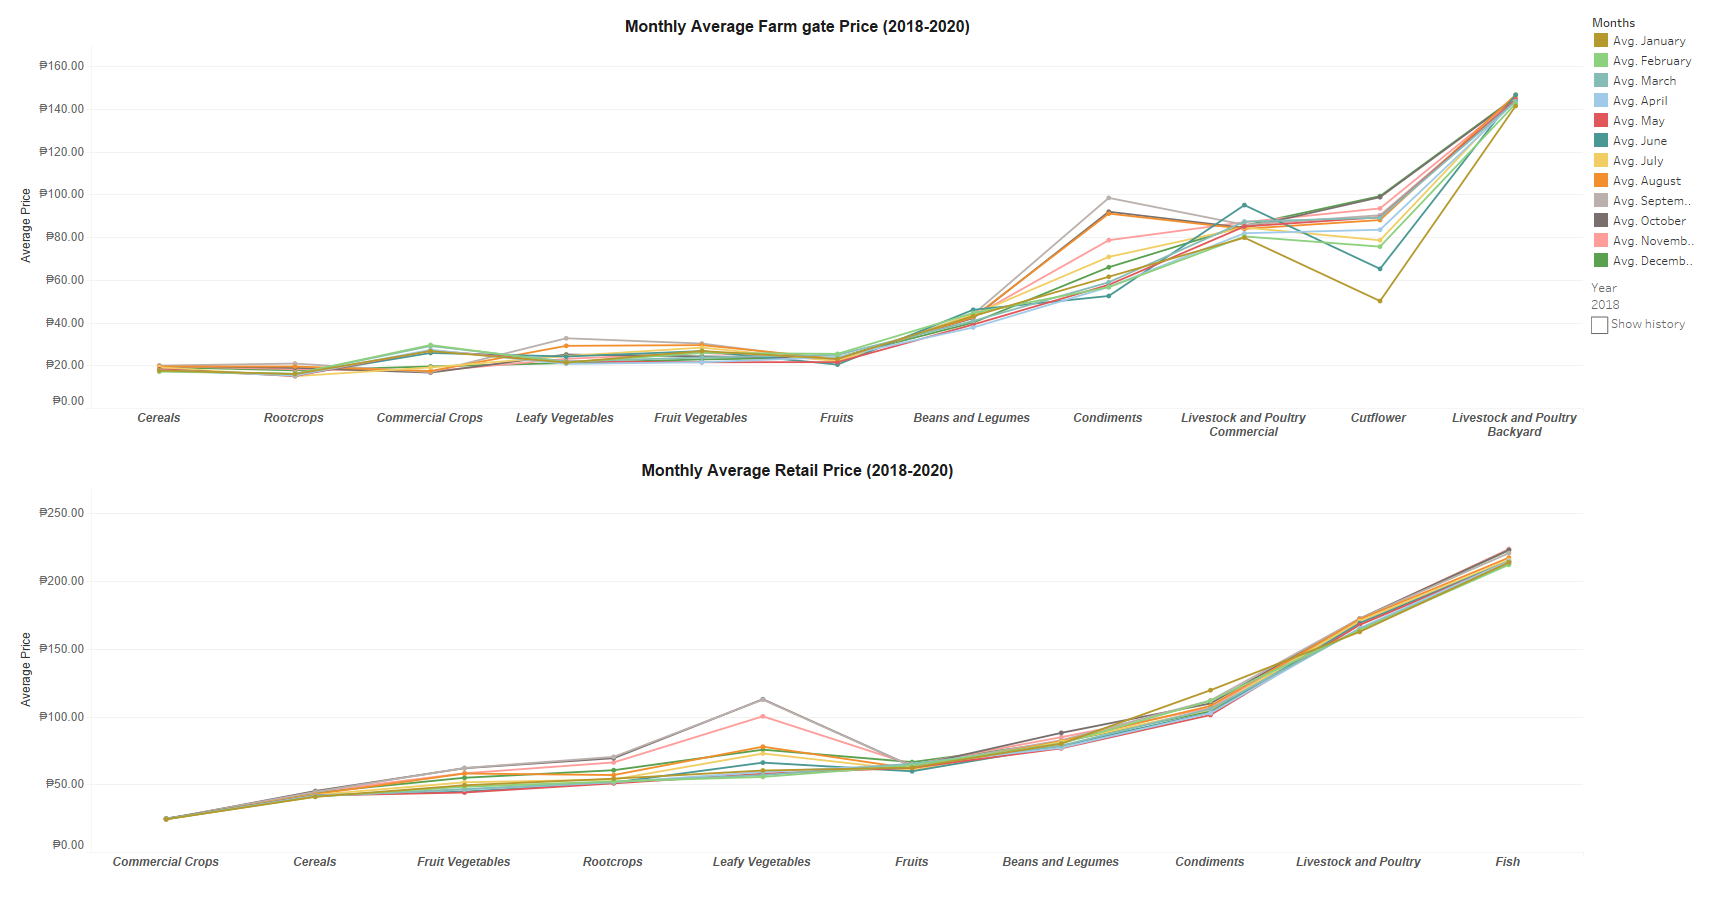

The dashboard page shown, as its layout file describes it:
{"tool":"tableau","page":{"name":"Objective 2","canvas":[1000,1000],"units":"permille","ordinal":2},"visuals":[{"type":"worksheet","title":"Farmgate Price per Month in the past 3 years","mark":"Line","cols":["Type of Commodity"],"box":[4.7,8.8,923.9,491.2]},{"type":"legend","title":"Retail Price per Month in the past 3 years","param":"[federated.11yr58t03ajr2j1fum0s00oflgma].[:Measure Names]","box":[928.6,8.8,66.7,294.2]},{"type":"currpage","title":"Retail Price per Month in the past 3 years","box":[928.6,303.1,66.7,77.4]},{"type":"worksheet","title":"Retail Price per Month in the past 3 years","mark":"Line","cols":["Type of Commodity"],"box":[4.7,500,923.9,491.2]}]}

Visuals, with their boxes on the dashboard's canvas, which has no fixed pixel size, in thousandths of its width and height (x1, y1, x2, y2). These are canvas units, not pixel positions in the 1709x904 screenshot, which may show the page scaled, cropped or inside an application window:
"Farmgate Price per Month in the past 3 years" worksheet (Line marks): [5,9,929,500]
"Retail Price per Month in the past 3 years" legend: [929,9,995,303]
"Retail Price per Month in the past 3 years" currpage: [929,303,995,380]
"Retail Price per Month in the past 3 years" worksheet (Line marks): [5,500,929,991]
